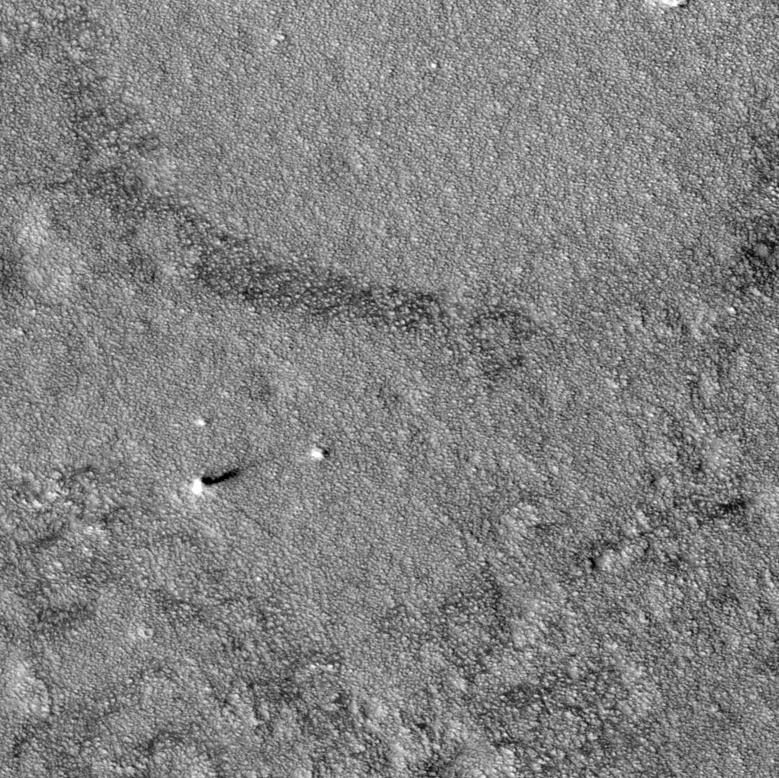dust_devil: (190, 466, 244, 496)
